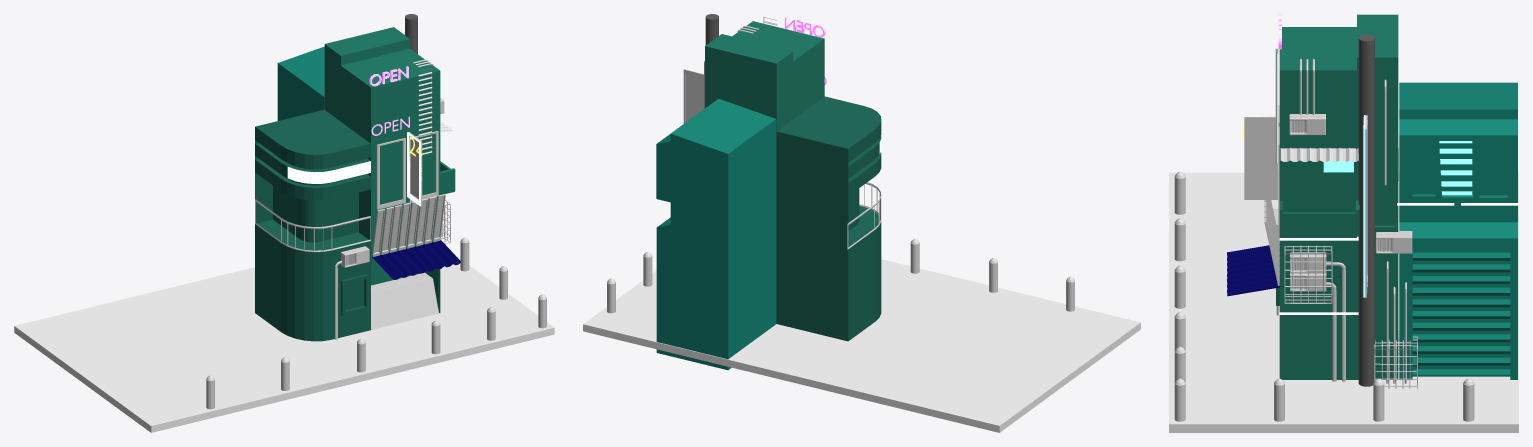
Rendered from CyberCity.gltf.
The picture shows the model from 3 angles, left to right: view 1: azimuth 30°, elevation 25°; view 2: azimuth 150°, elevation 25°; view 3: azimuth 270°, elevation 25°; orthographic projection. The views are drawn at different scales.
Parts seen in each view (by area): view 1: Cube.004, Cube.002, Cube.001, Cube.003, Cube.013, Plane, Cube.034, Cube.014, Plane.010, Plane.011, Plane.014; view 2: Cube.004, Cube.003, Cube.002, Cube.001, Plane.012, Cube.014; view 3: Cube.004, Cube.003, Cube.001, Cylinder.038, Plane.011, Plane, Cube.011, Plane.013, Cube.010, Cube.012, Cube.015, Cube.009 (+17 smaller).
Boxes of the visible parts, box(x1,y1,x2,y2) form: Cube.004: box(14, 255, 554, 432); Cube.002: box(255, 109, 370, 341); Cube.001: box(324, 27, 455, 312); Cube.003: box(277, 46, 324, 120); Cube.013: box(371, 272, 438, 329); Plane: box(372, 240, 460, 279); Cube.034: box(287, 161, 370, 183); Cube.014: box(255, 199, 370, 252); Plane.010: box(376, 138, 405, 209); Plane.011: box(408, 132, 422, 206); Plane.014: box(418, 68, 432, 154); Cube.004: box(583, 259, 1140, 432); Cube.003: box(656, 98, 776, 370); Cube.002: box(776, 96, 881, 341); Cube.001: box(705, 21, 824, 323); Plane.012: box(683, 69, 703, 123); Cube.014: box(847, 182, 881, 249); Cube.004: box(1169, 172, 1518, 432); Cube.003: box(1399, 82, 1517, 379); Cube.001: box(1279, 14, 1398, 379); Cylinder.038: box(1358, 34, 1374, 386); Plane.011: box(1244, 116, 1277, 199); Plane: box(1227, 245, 1340, 296); Cube.011: box(1284, 245, 1332, 303); Plane.013: box(1280, 147, 1358, 161); Cube.010: box(1374, 330, 1417, 388); Cube.012: box(1375, 231, 1412, 253); Cube.015: box(1289, 114, 1325, 135); Cube.009: box(1290, 252, 1326, 273).
Size of the model in its own units: 10.03 by 6.68 by 5.9.
